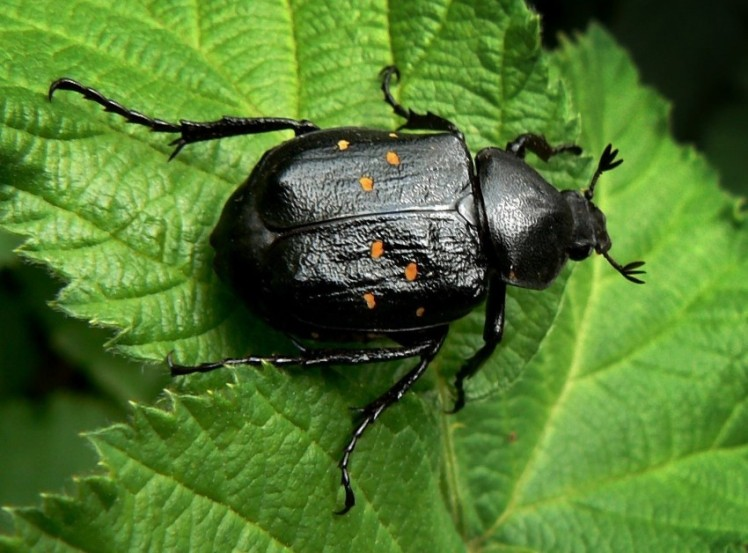Gnorimus_variabilis: (34, 46, 652, 523)
